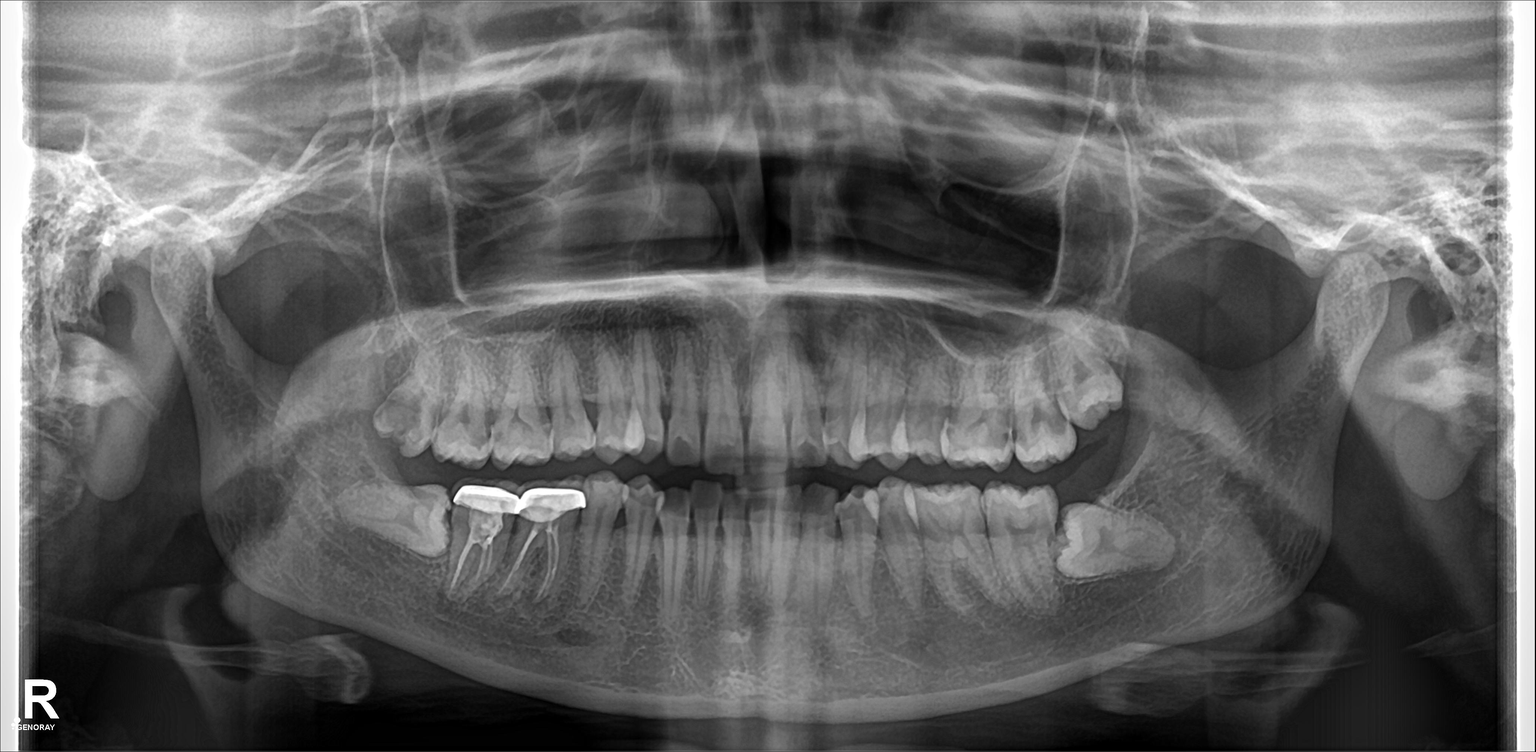Dental Caries: (380, 391, 425, 434)
Endodontically Treated Tooth: (518, 482, 583, 603), (447, 491, 518, 597)
Impacted Third Molar: (333, 478, 460, 551), (1061, 503, 1161, 579)
